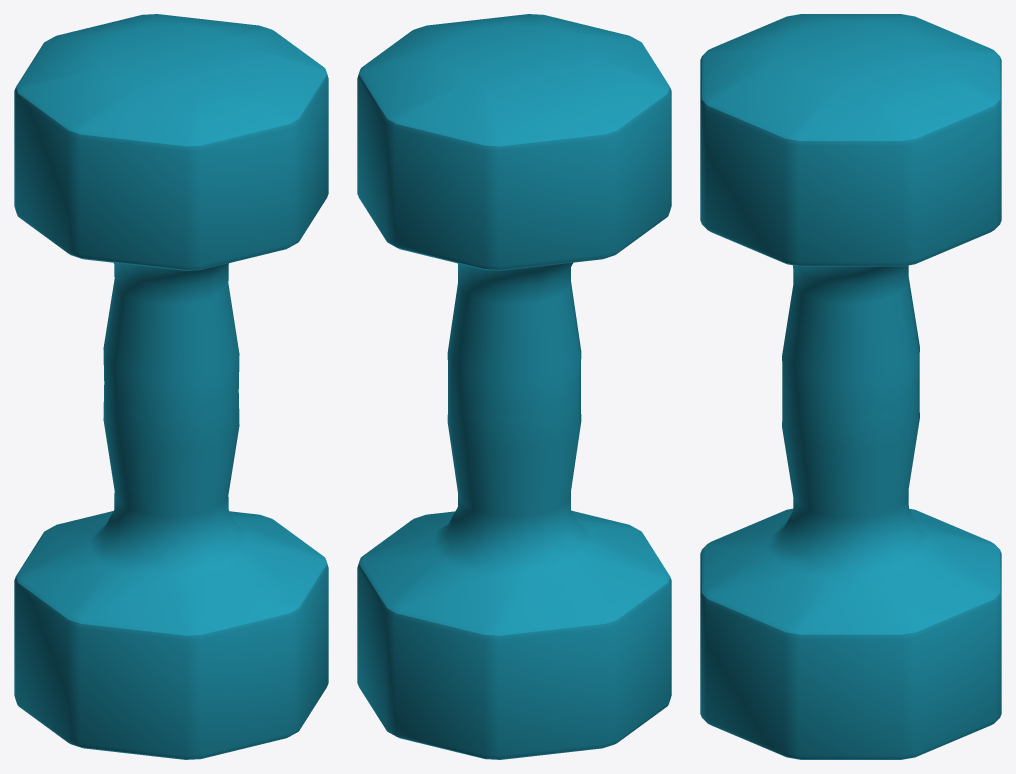
The model's file is Dumbell.glb.
3 renders of one model, left to right at view 1: azimuth 30°, elevation 25°; view 2: azimuth 150°, elevation 25°; view 3: azimuth 270°, elevation 25°, orthographic.
Visible parts, largest first — view 1: Dumbell; view 2: Dumbell; view 3: Dumbell.
Boxes of the visible parts, x1,y1,x2,y2 form: Dumbell: (14,14,328,759); Dumbell: (357,14,671,759); Dumbell: (700,14,1001,759).
Bounding box in the file's own units: 0.1 × 0.2438 × 0.1.
